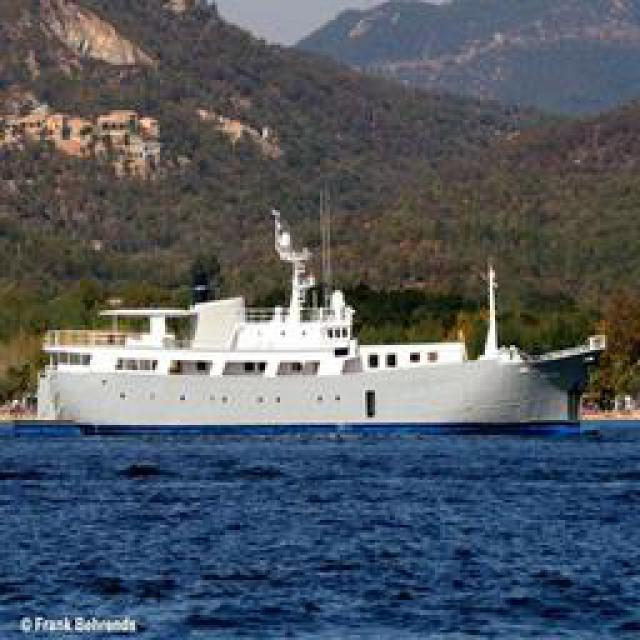Ship: (26, 239, 611, 442)
